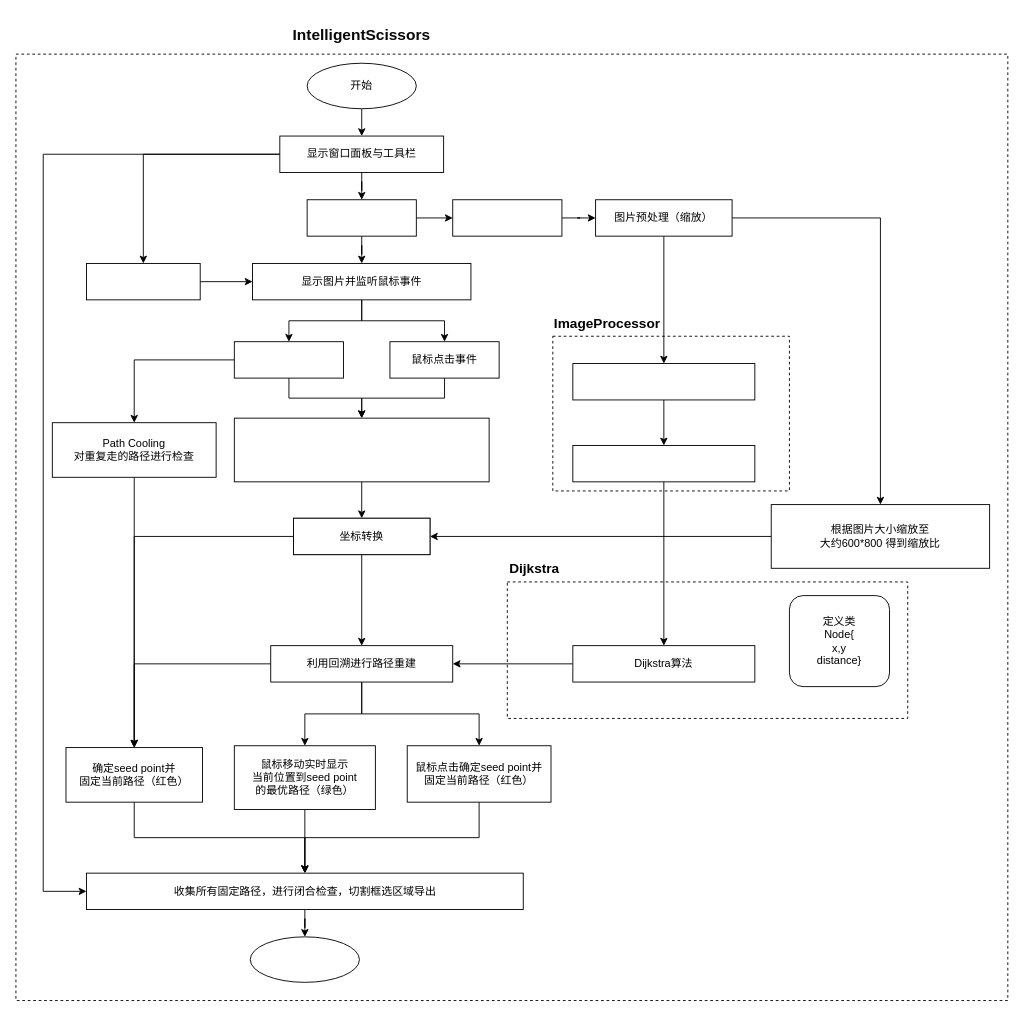
This 1024x1016 diagram has some shape labels left out. Each missing label, with the box of its shape:
Cursor Snap 寻找鼠标邻域7格内最大gradients的位置: (233, 417, 489, 482)
打开图片路径: (306, 199, 416, 236)
根据gradient计算cost矩阵: (572, 445, 755, 482)
清除路径: (86, 263, 200, 300)
结束: (249, 936, 359, 982)
读取图片: (452, 199, 562, 236)
转为灰度图并计算gradient: (572, 363, 755, 400)
鼠标移动事件: (233, 341, 344, 378)
